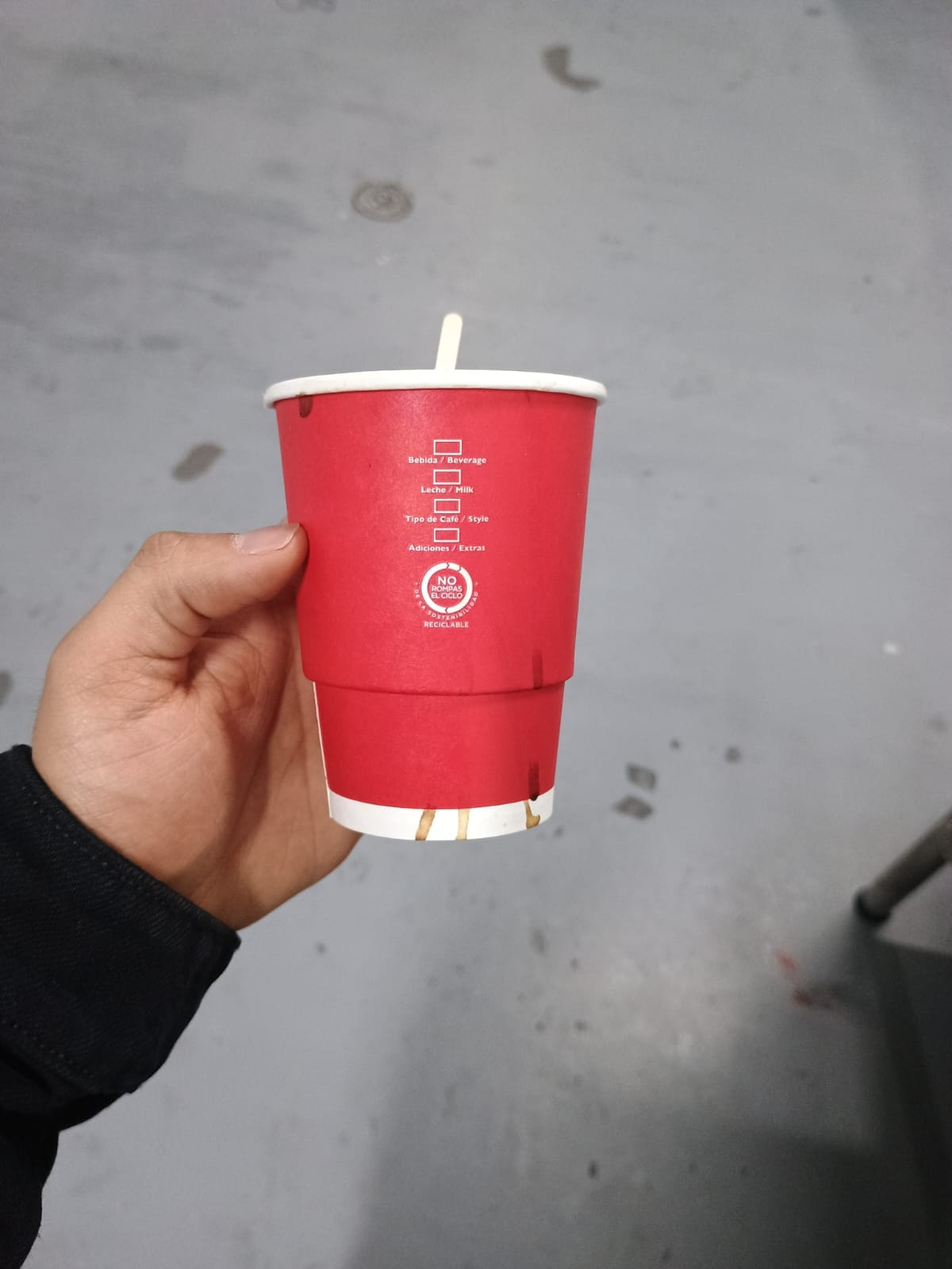Carton: (269, 370, 605, 842)
